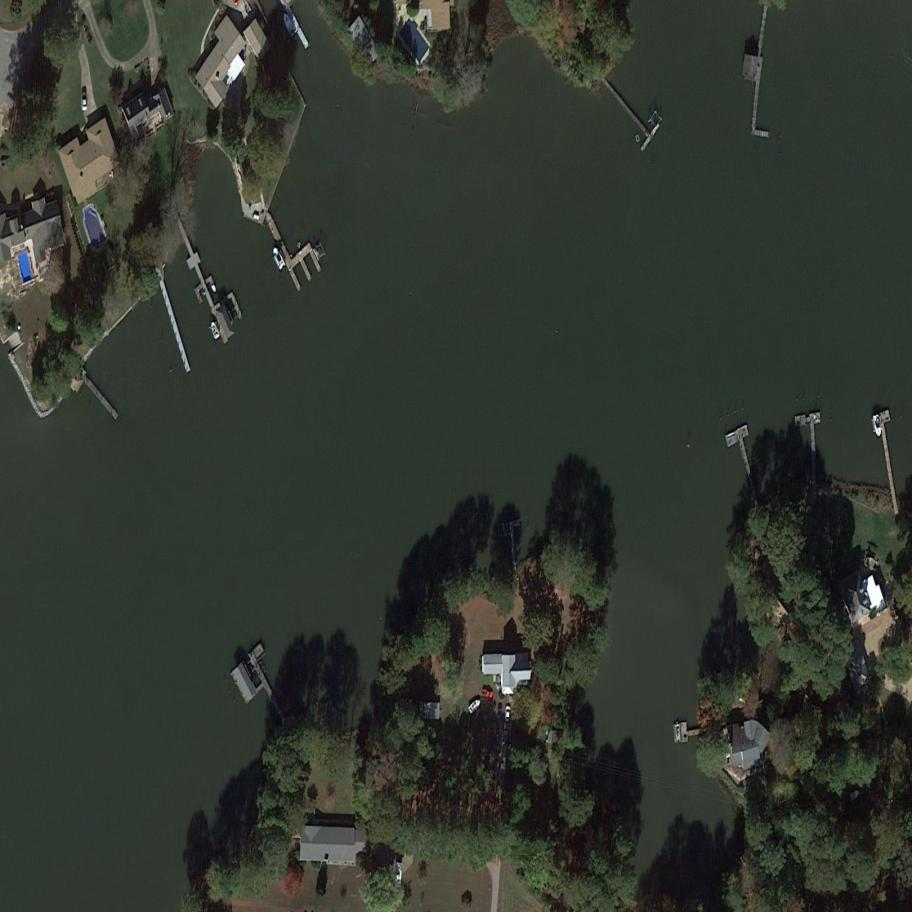ship: (268, 244, 288, 275), (280, 11, 299, 41), (207, 318, 224, 342), (465, 696, 485, 716), (870, 412, 884, 438), (673, 721, 682, 744)
small-vehicle: (312, 867, 328, 898), (395, 861, 403, 886), (479, 688, 495, 700), (80, 92, 89, 113), (504, 704, 512, 723), (502, 728, 509, 746)
